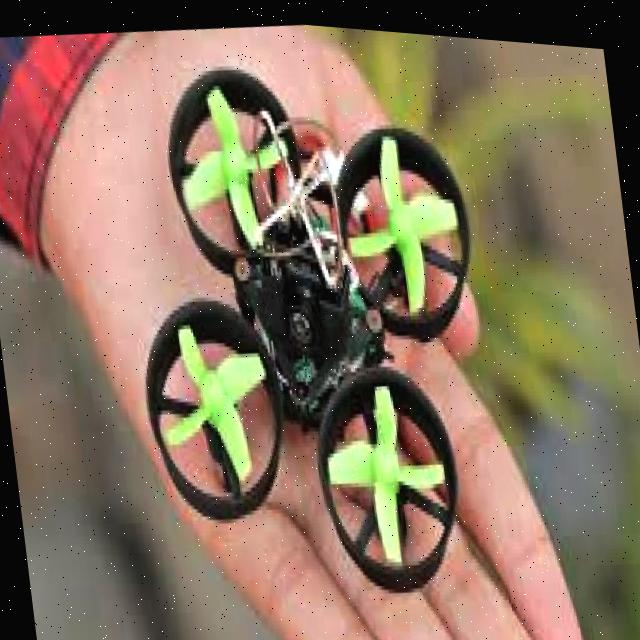drone: (104, 28, 524, 620)
